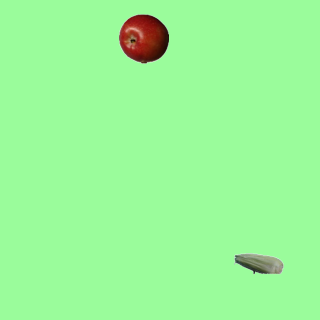Apple Braeburn: (118, 13, 168, 63)
Corn Husk: (233, 238, 283, 288)
